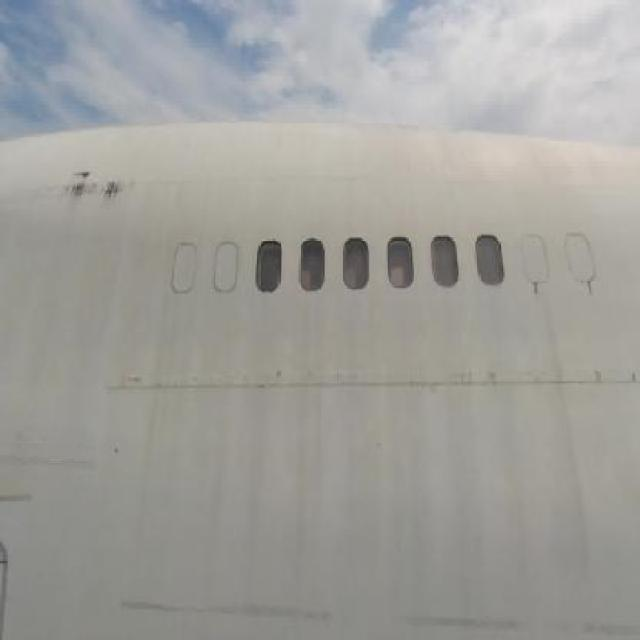Rust: (51, 152, 140, 217), (530, 278, 548, 302), (582, 281, 602, 296)
Scartch: (109, 582, 640, 638)
